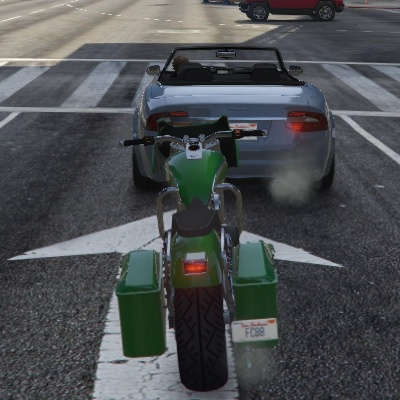on: (183, 252, 206, 276)
